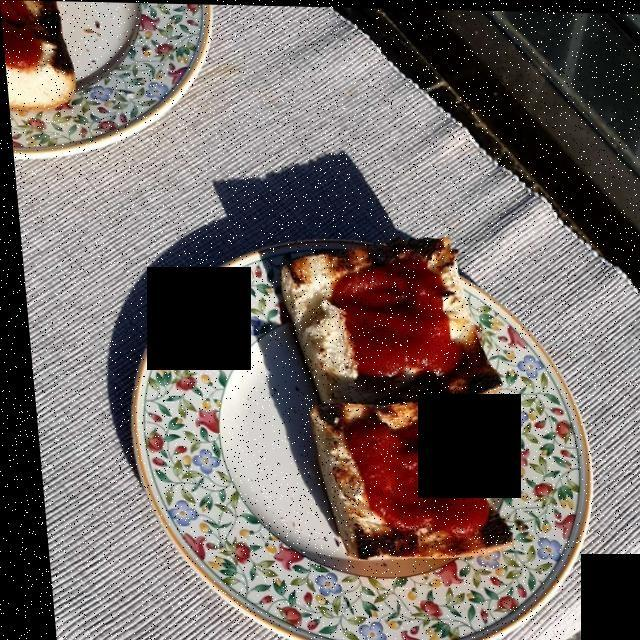bread: (273, 244, 503, 547)
tomato-sauce: (329, 253, 486, 538)
